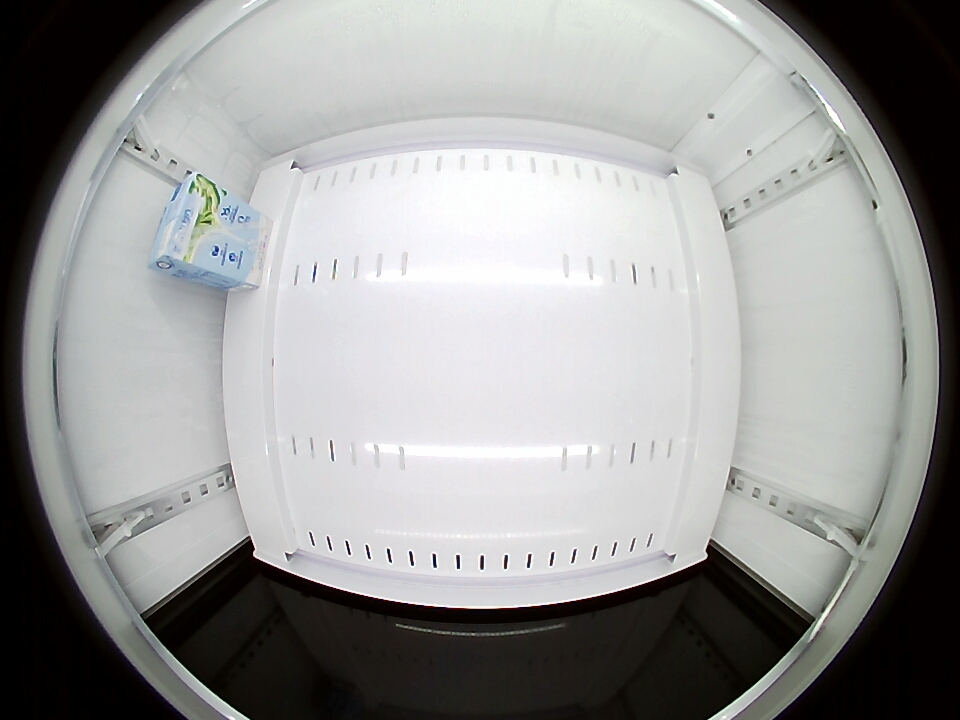weitanaiditang: (150, 171, 227, 280)
